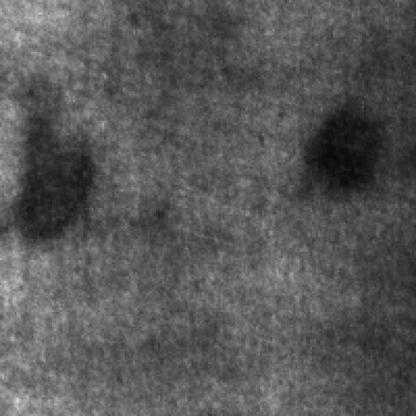patches: (18, 102, 100, 239), (308, 98, 393, 187)
